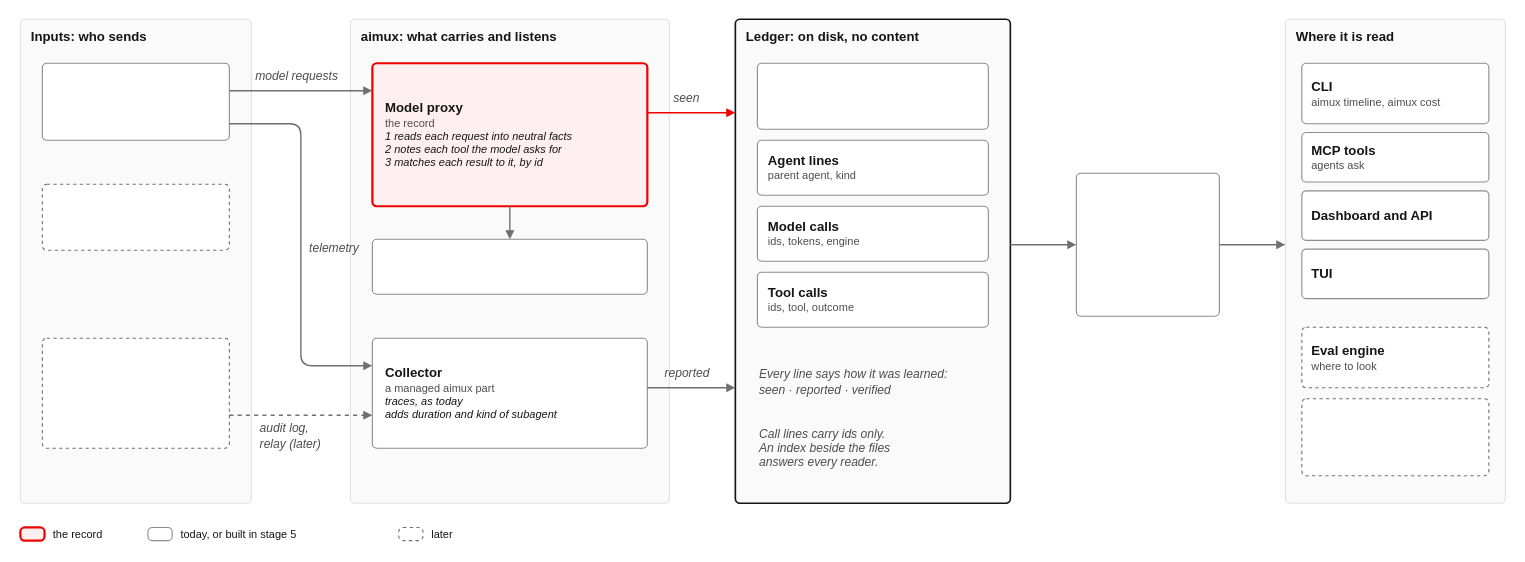
This 1525x562 diagram has some shape labels left out. Here are the shapes that lost their labels. From the top down, the centre of each, then its label:
the point at 135,101: Claude Code main conversation and its subagents
the point at 872,95: Session lines harness, where it runs later: who it acts for
the point at 135,216: Other harnesses Codex CLI and more
the point at 1147,244: Read functions one place, versioned Timeline Profile Meter
the point at 509,266: Engines Anthropic · Codex · a gateway
the point at 135,392: OpenShell sandbox its supervisor's audit log (OCSF) and trace relay
the point at 1395,437: Routing, stage 6 the proxy picks the model per call
